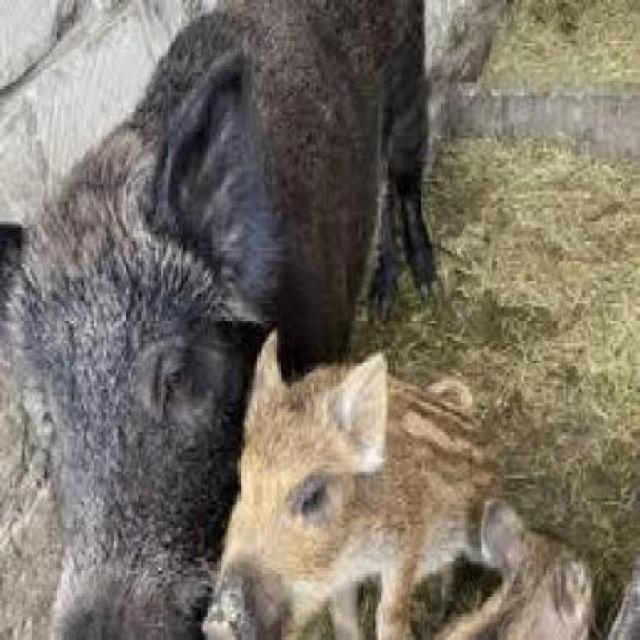wildboar: (0, 0, 445, 640), (189, 363, 511, 640), (479, 497, 615, 640)
